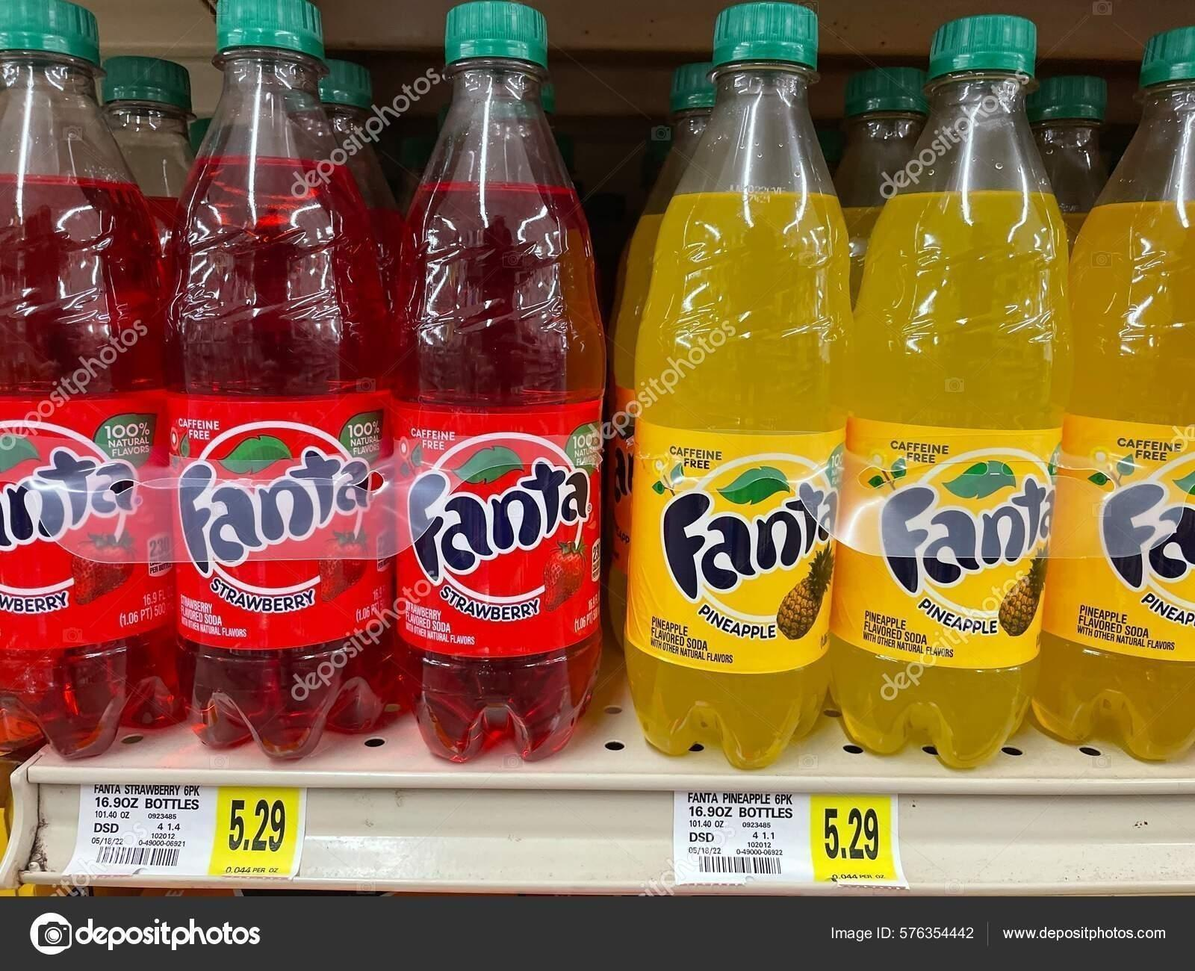bottle-plastic: (616, 2, 857, 772), (164, 0, 403, 767), (386, 0, 615, 763), (849, 10, 1072, 775), (0, 0, 179, 763), (1043, 23, 1195, 769)
